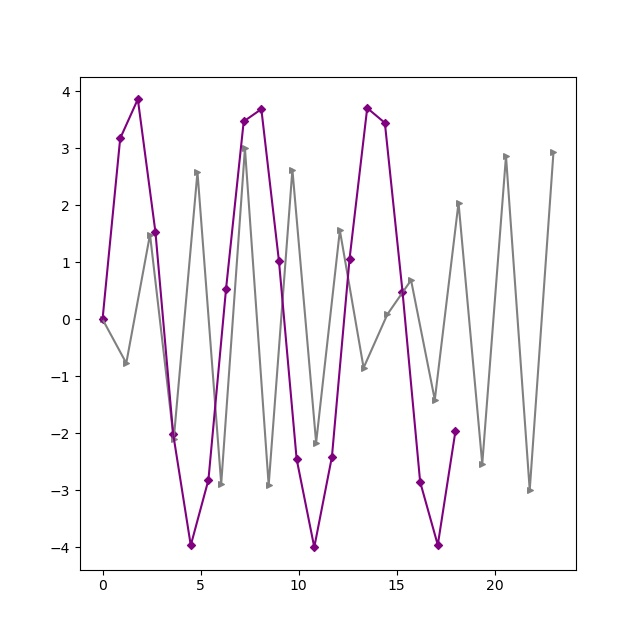diamond: (99, 315, 108, 324), (116, 134, 125, 143), (134, 95, 143, 104), (151, 228, 160, 237), (169, 430, 178, 439), (187, 541, 196, 550), (204, 476, 213, 485), (222, 285, 231, 294), (240, 117, 249, 126), (257, 105, 266, 114), (275, 257, 284, 266), (293, 455, 302, 464), (310, 543, 319, 552), (328, 453, 337, 462), (346, 255, 355, 264), (363, 104, 372, 113), (381, 119, 390, 128), (398, 288, 407, 297), (416, 478, 425, 487), (434, 541, 443, 550), (451, 427, 460, 436)
triangle_right: (99, 315, 108, 324), (122, 359, 131, 368), (146, 231, 155, 240), (170, 435, 179, 444), (193, 168, 202, 177), (217, 480, 226, 489), (241, 144, 250, 153), (265, 481, 274, 490), (288, 166, 297, 175), (312, 439, 321, 448), (336, 226, 345, 235), (360, 364, 369, 373), (383, 310, 392, 319), (407, 276, 416, 285), (431, 396, 440, 405), (455, 199, 464, 208), (478, 460, 487, 469), (502, 152, 511, 161), (526, 486, 535, 495), (549, 148, 558, 157)
